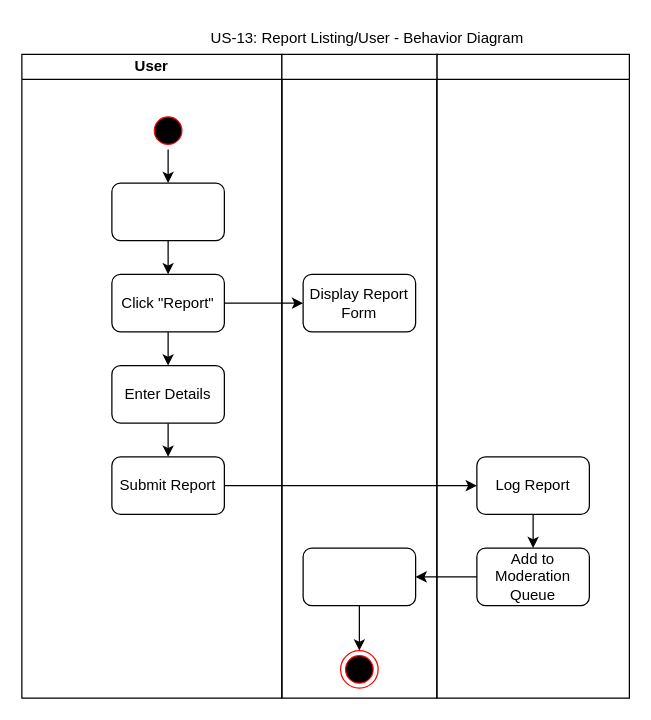
This 651x720 diagram has some shape labels left out. Each missing label, with the box of its shape:
Display Confirmation: (302, 547, 416, 606)
Switchr System: (436, 53, 629, 698)
View Listing or Profile: (111, 182, 224, 241)
Web UI: (281, 53, 437, 698)
